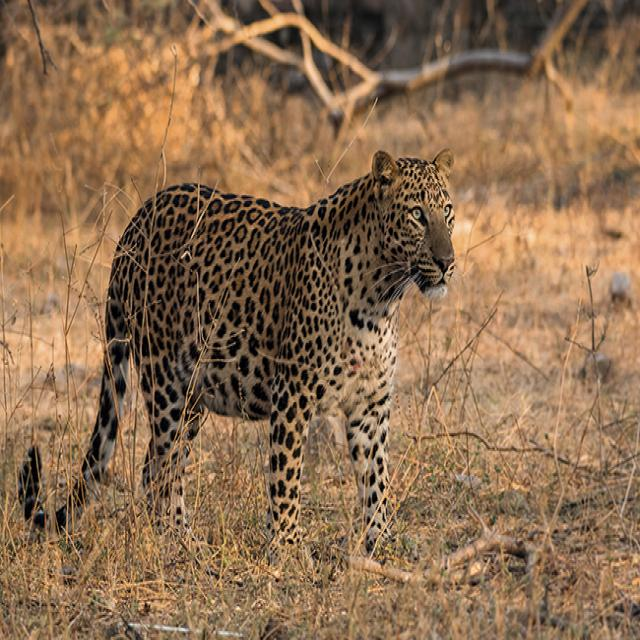Leopard: (20, 148, 455, 565)
